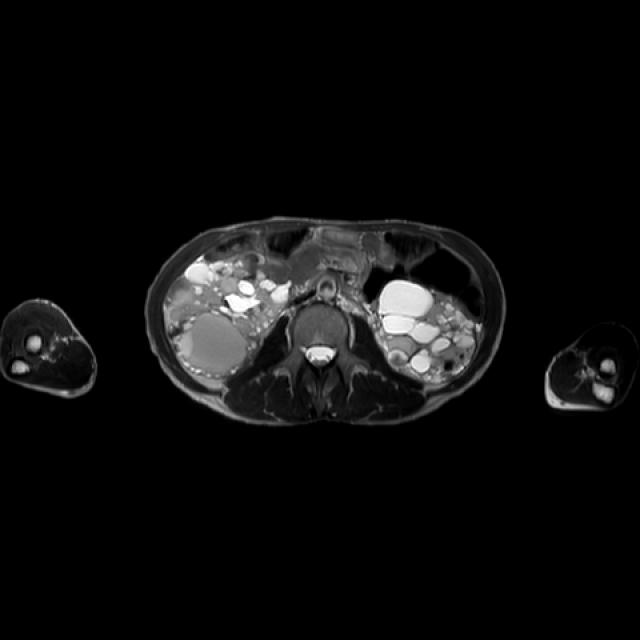sag: (172, 253, 288, 381)
sol: (375, 283, 476, 382)
